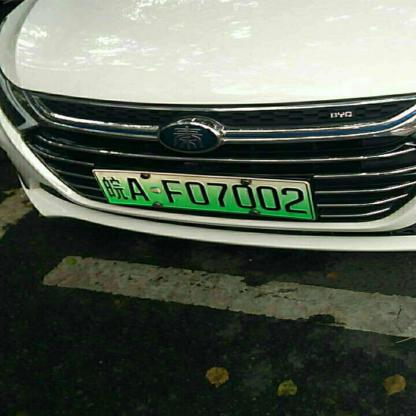lp: (95, 170, 312, 218)
